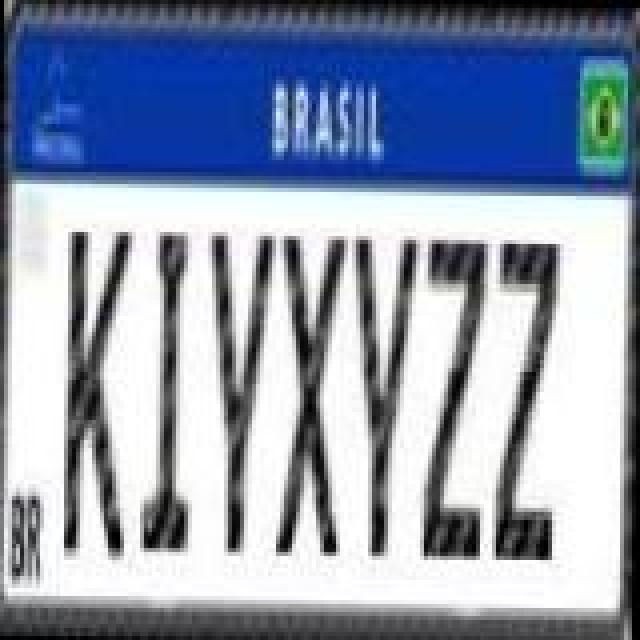I: (144, 230, 200, 554)
K: (66, 228, 134, 564)
X: (276, 232, 348, 556)
Y: (204, 230, 276, 554), (350, 234, 418, 558)
Z: (490, 232, 558, 568), (420, 234, 484, 558)
